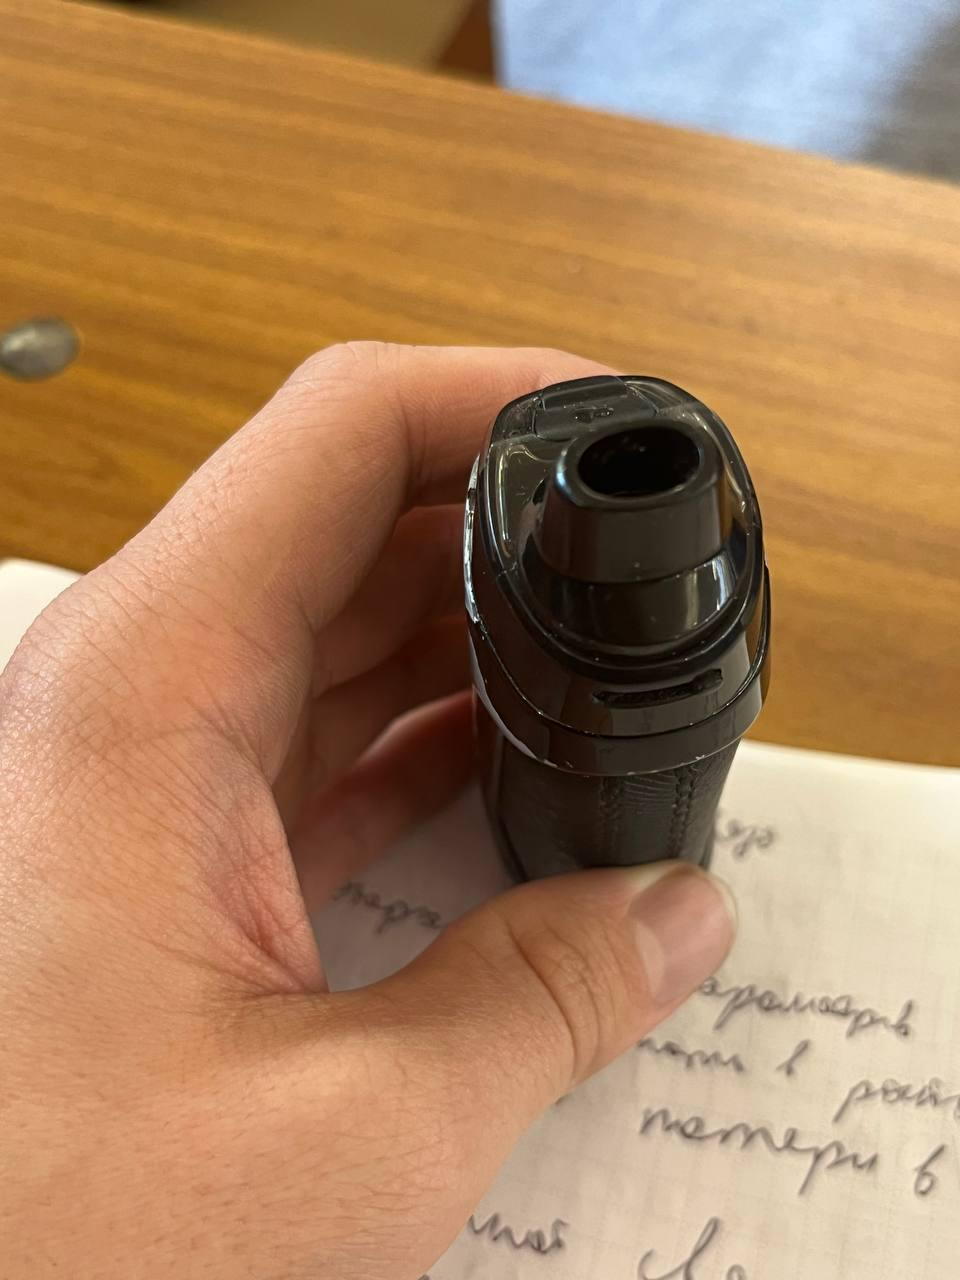Vape: (465, 376, 771, 881)
